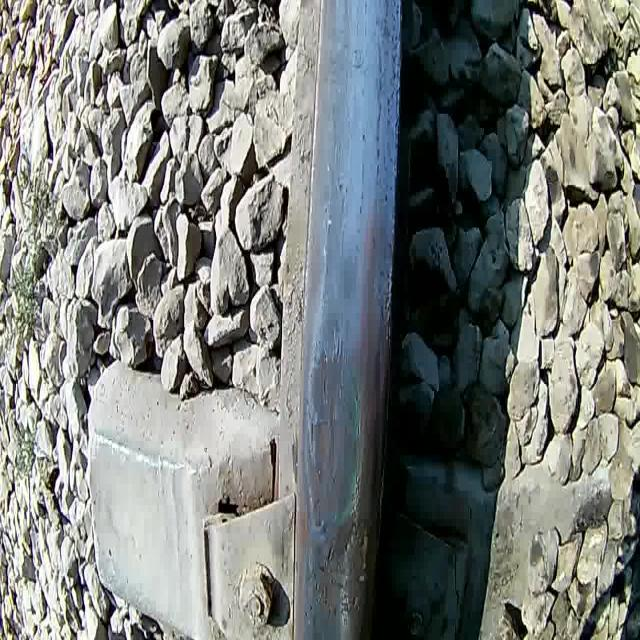Spallings: (314, 518, 374, 624)
Squats: (298, 320, 375, 640)
